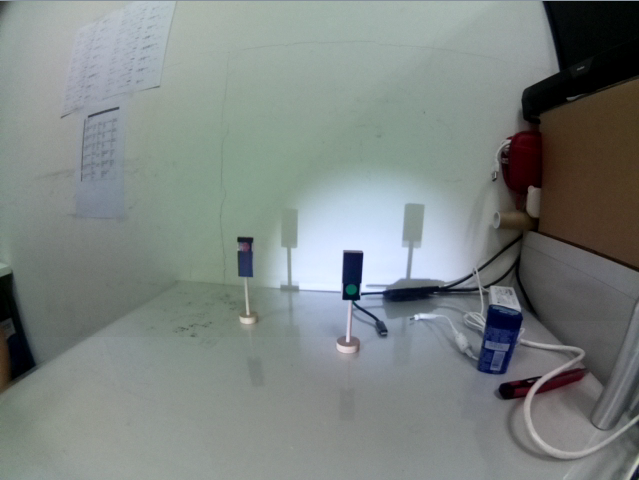Green: (339, 247, 367, 307)
Red: (234, 233, 259, 286)
